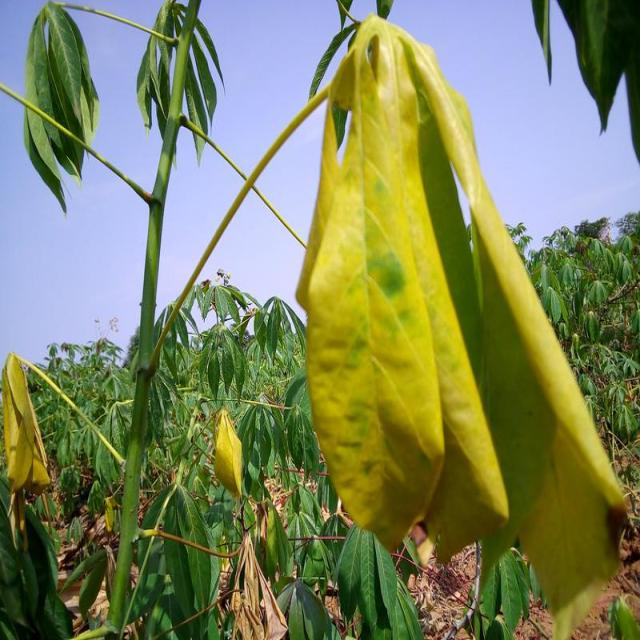cassava leaf: (294, 12, 628, 638), (21, 0, 100, 212)
